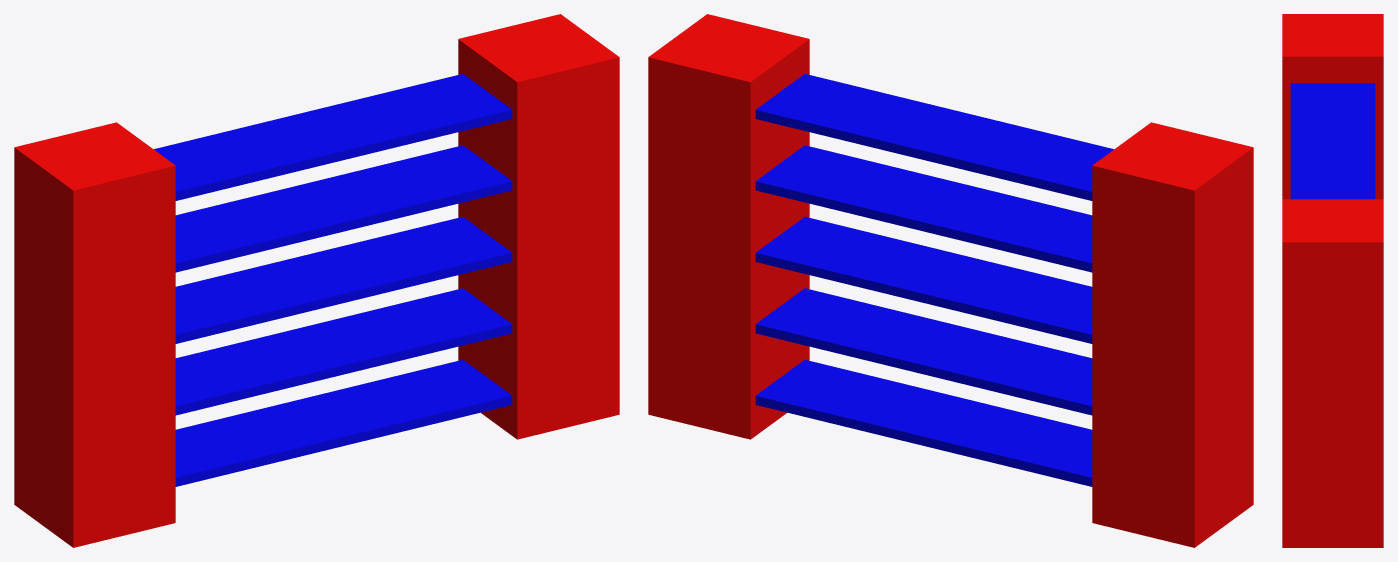
Rendered from Shelf_Concrete.fbx.
3 renders of one model, left to right at view 1: azimuth 30°, elevation 25°; view 2: azimuth 150°, elevation 25°; view 3: azimuth 270°, elevation 25°, orthographic. The views are drawn at different scales.
Parts seen in each view (by area): view 1: Cube_1, Cube_2, Cube_7, Cube_6, Cube_4, Cube_5, Cube_3; view 2: Cube_1, Cube_2, Cube_7, Cube_6, Cube_4, Cube_5, Cube_3; view 3: Cube_2, Cube_7, Cube_1.
Boxes of the visible parts, left/top/right/bottom form: Cube_1: left=14, top=122, right=175, bottom=547; Cube_2: left=458, top=14, right=619, bottom=439; Cube_7: left=154, top=74, right=512, bottom=200; Cube_6: left=175, top=145, right=512, bottom=272; Cube_4: left=175, top=288, right=512, bottom=415; Cube_5: left=175, top=217, right=512, bottom=343; Cube_3: left=175, top=359, right=512, bottom=486; Cube_1: left=1092, top=122, right=1253, bottom=547; Cube_2: left=648, top=14, right=809, bottom=439; Cube_7: left=755, top=74, right=1113, bottom=200; Cube_6: left=755, top=145, right=1092, bottom=272; Cube_4: left=755, top=288, right=1092, bottom=415; Cube_5: left=755, top=217, right=1092, bottom=343; Cube_3: left=755, top=359, right=1092, bottom=486; Cube_2: left=1282, top=199, right=1383, bottom=547; Cube_7: left=1290, top=83, right=1375, bottom=199; Cube_1: left=1282, top=14, right=1383, bottom=199.
Size of the model in its own units: 160 by 100 by 30.
